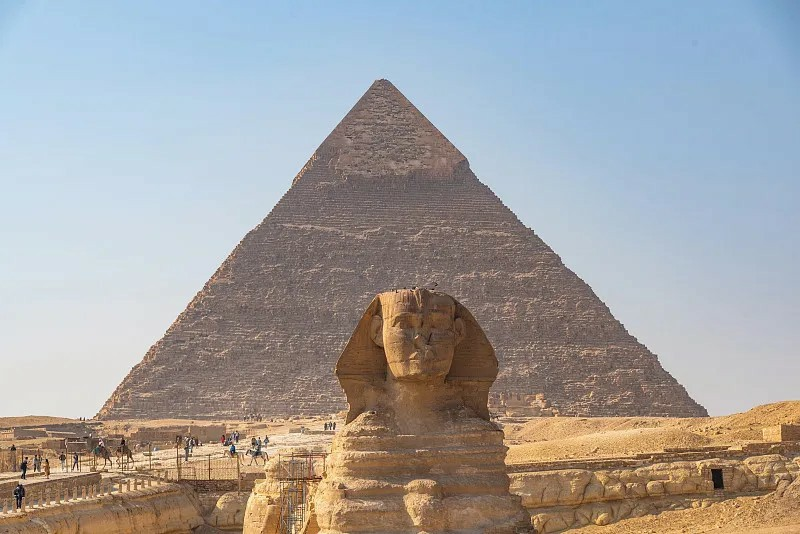Pyramid: (97, 78, 713, 419)
